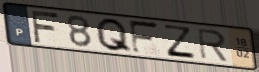8: (66, 14, 94, 49)
F: (127, 19, 162, 56), (29, 9, 61, 44)
Q: (94, 17, 134, 55)
R: (195, 27, 230, 63)
Z: (163, 23, 198, 61)
